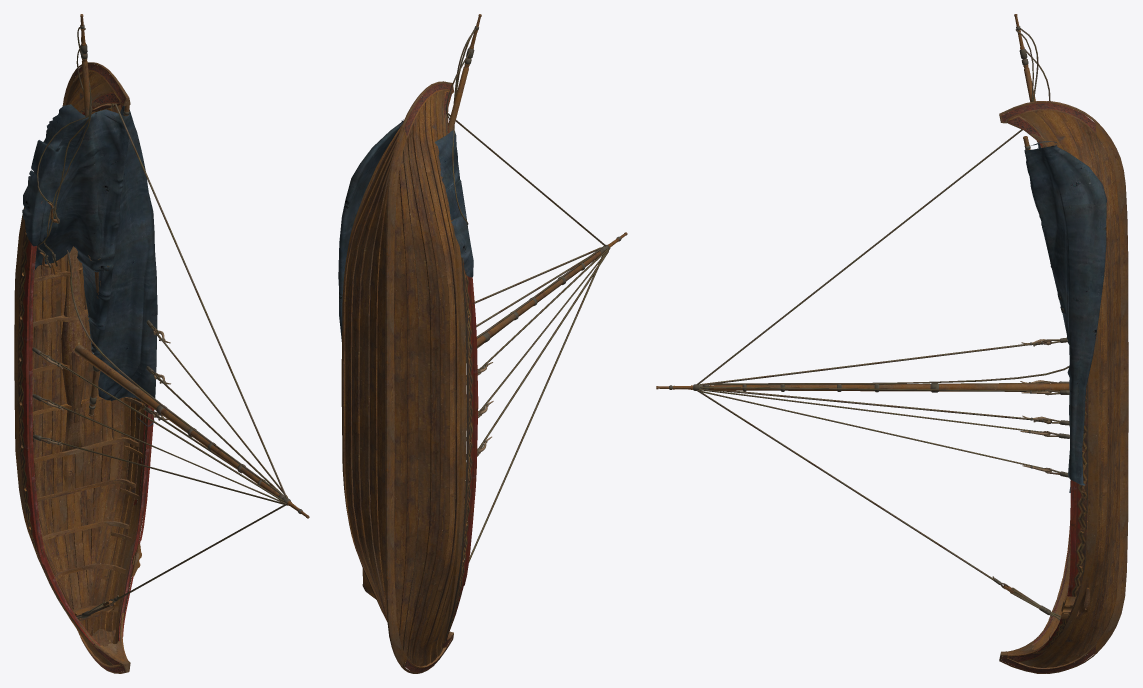
The model's file is VIK_PRO_Longship_Hull_01A_LOD0_3-transformed.glb.
3 views of the same model, side by side, from view 1: azimuth 30°, elevation 25°; view 2: azimuth 150°, elevation 25°; view 3: azimuth 270°, elevation 25° (orthographic). The views are drawn at different scales.
Parts seen in each view (by area): view 1: VIK_PRO_Longship_Hull_01A_LOD0_3; view 2: VIK_PRO_Longship_Hull_01A_LOD0_3; view 3: VIK_PRO_Longship_Hull_01A_LOD0_3.
Part boxes in pixels (left/top/right/bottom): VIK_PRO_Longship_Hull_01A_LOD0_3: left=14, top=14, right=309, bottom=673; VIK_PRO_Longship_Hull_01A_LOD0_3: left=338, top=14, right=627, bottom=673; VIK_PRO_Longship_Hull_01A_LOD0_3: left=656, top=14, right=1128, bottom=673.
Size of the model in its own units: 0.0392 by 0.1882 by 0.1255.
6 materials, 6 textured.
